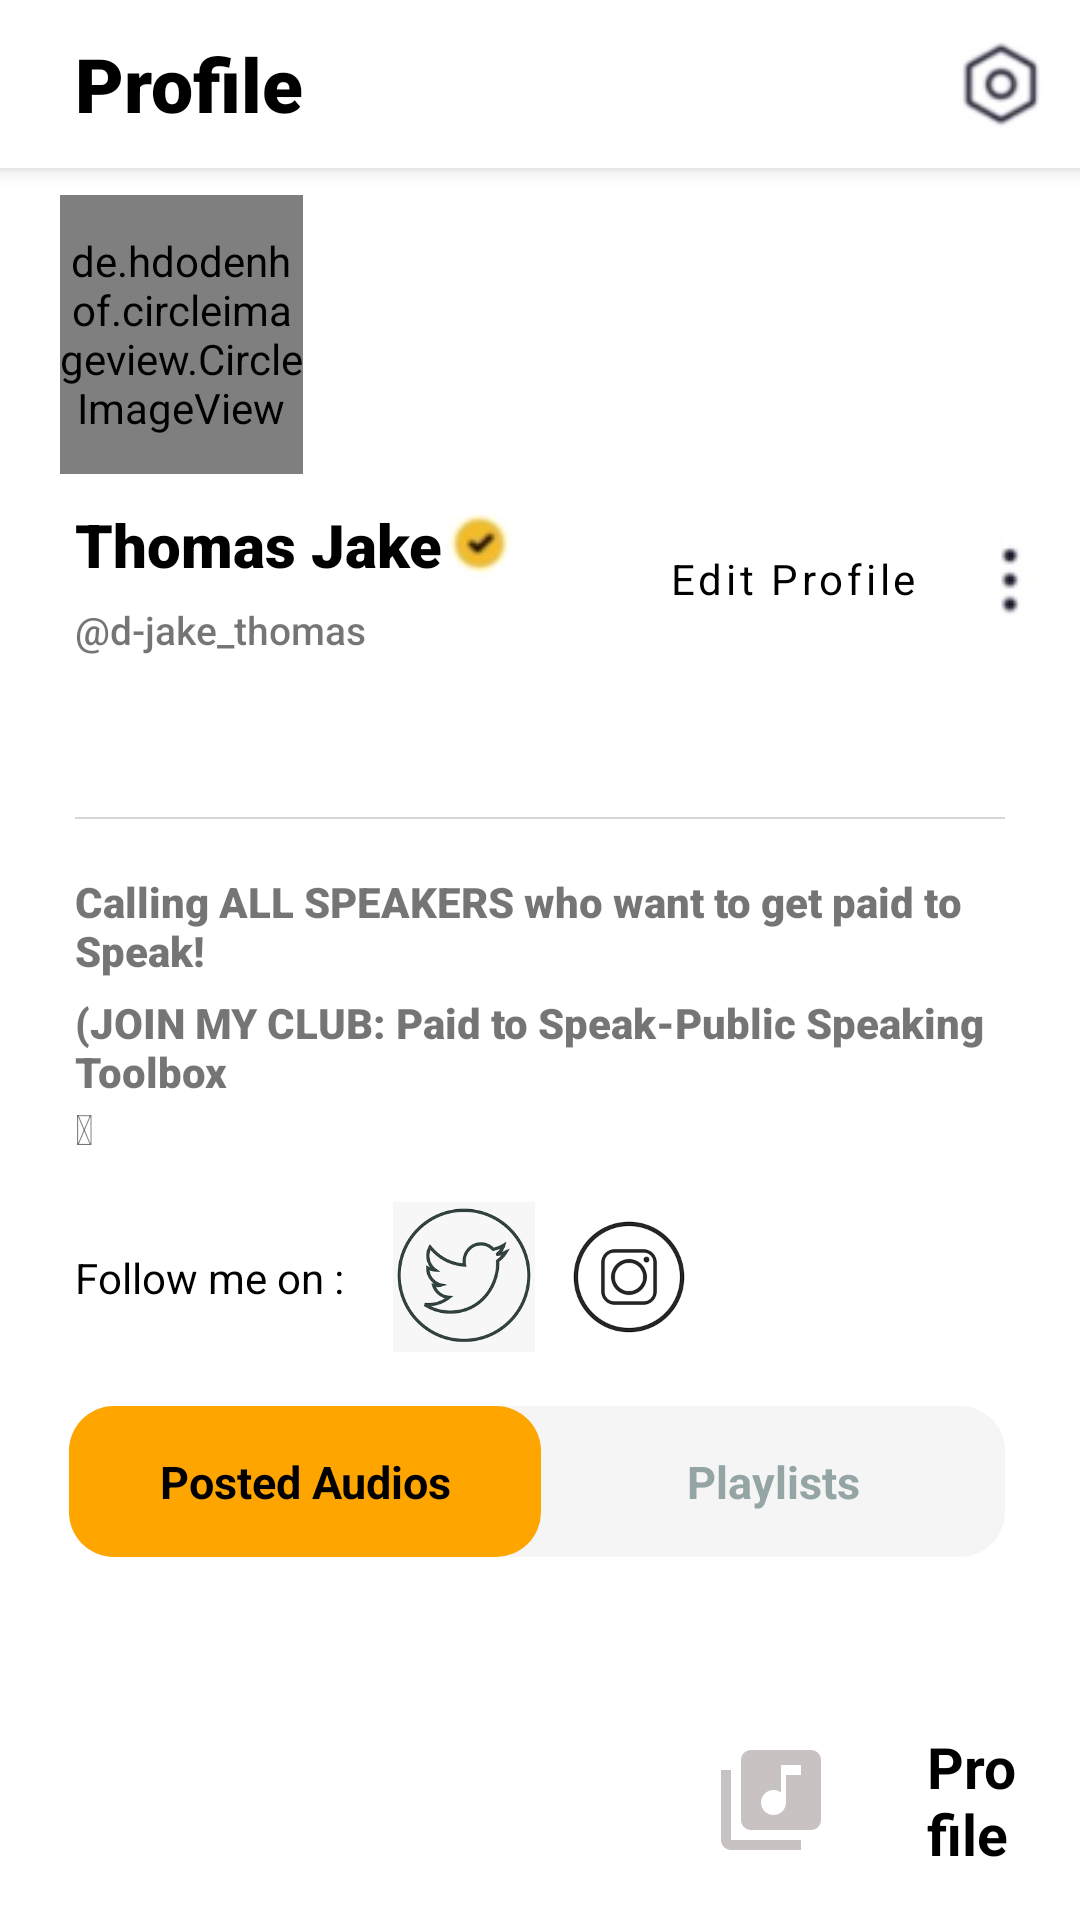

Where to tap for icons on this 1080×1920 app screen, as (x=x, y=y):
music album: (x=771, y=1800)
